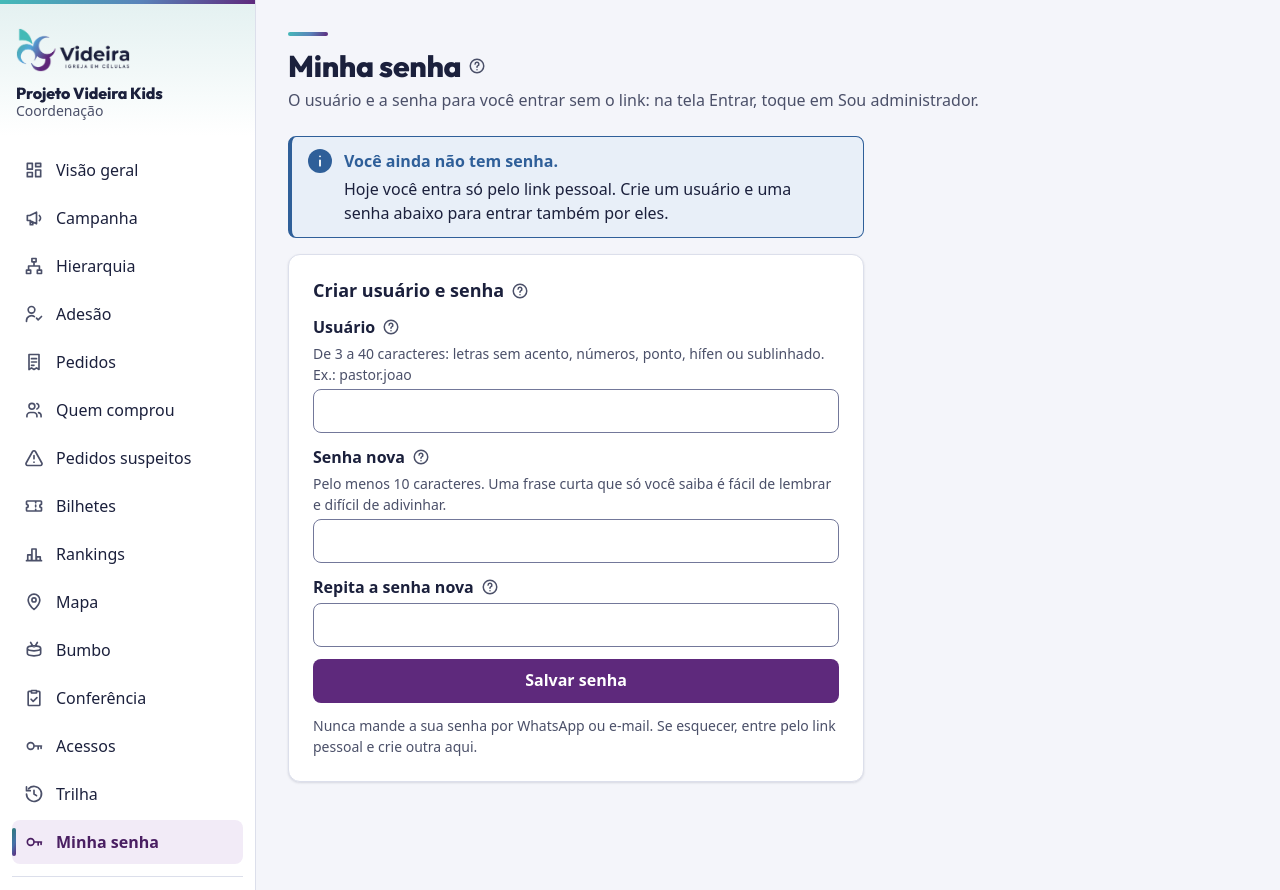
RIFA-073: tela Minha senha › 409 em_uso: o aviso fica no campo Usuário
This screenshot has width=1280, height=890.
Check: the text "Você ainda não tem senha." is shown, box [344,150,558,172]
Type "pastor" into the field labelled "Usuário".
click(576, 411); type("pastor")  # box [313,389,839,433]
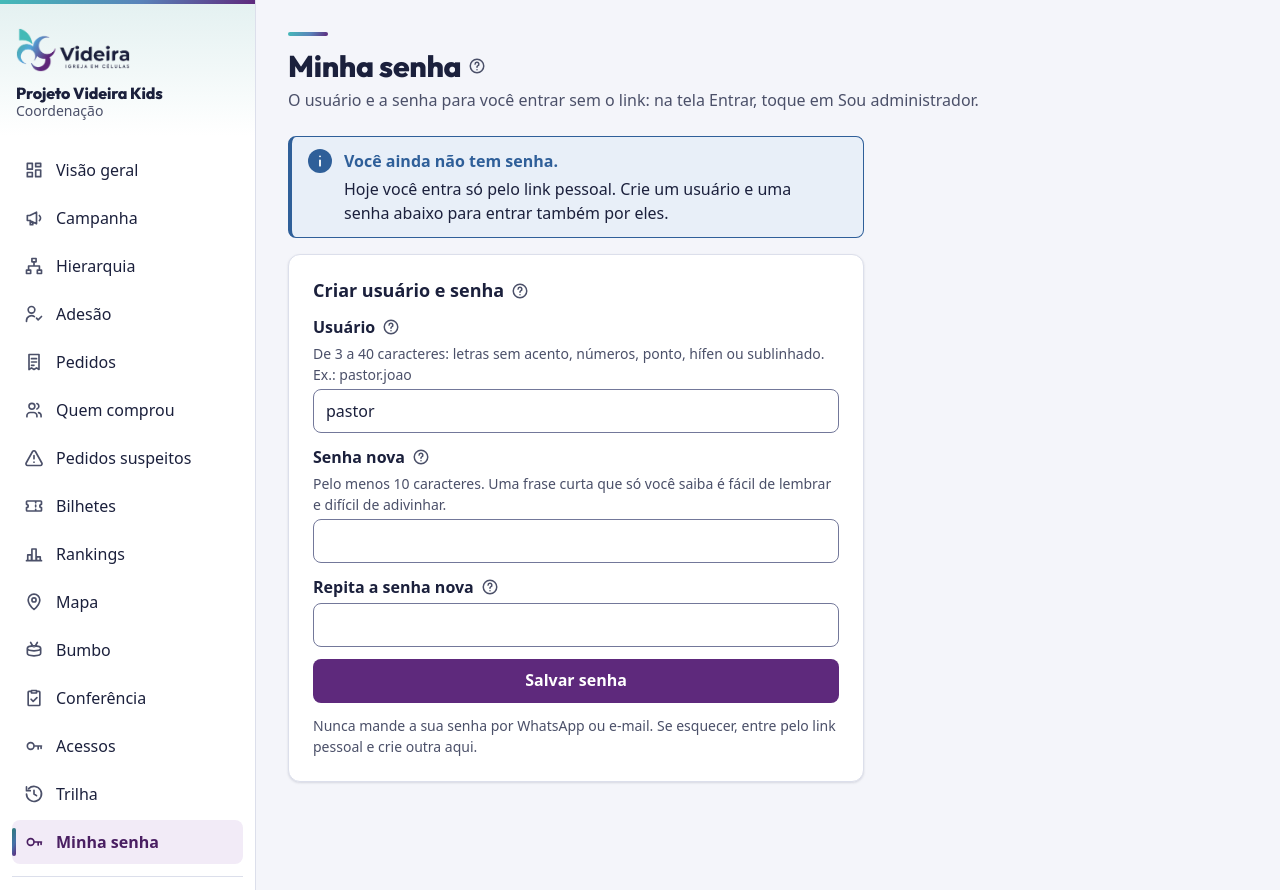
Type "senha ficticia de teste" into the password field labelled "Senha nova".
click(576, 541); type("senha ficticia de teste")  # box [313,519,839,563]
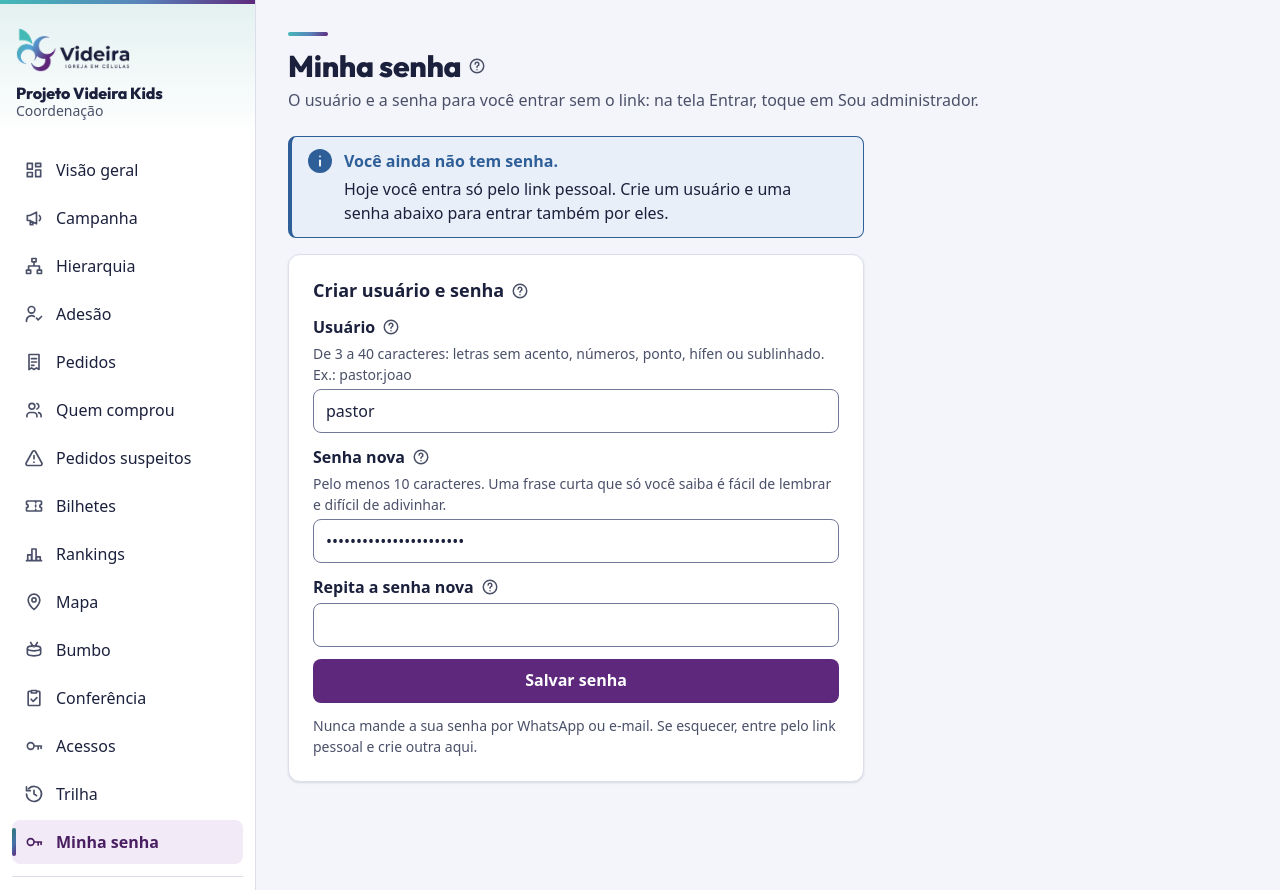
Type "senha ficticia de teste" into the password field labelled "Repita a senha nova".
click(576, 625); type("senha ficticia de teste")  # box [313,603,839,647]
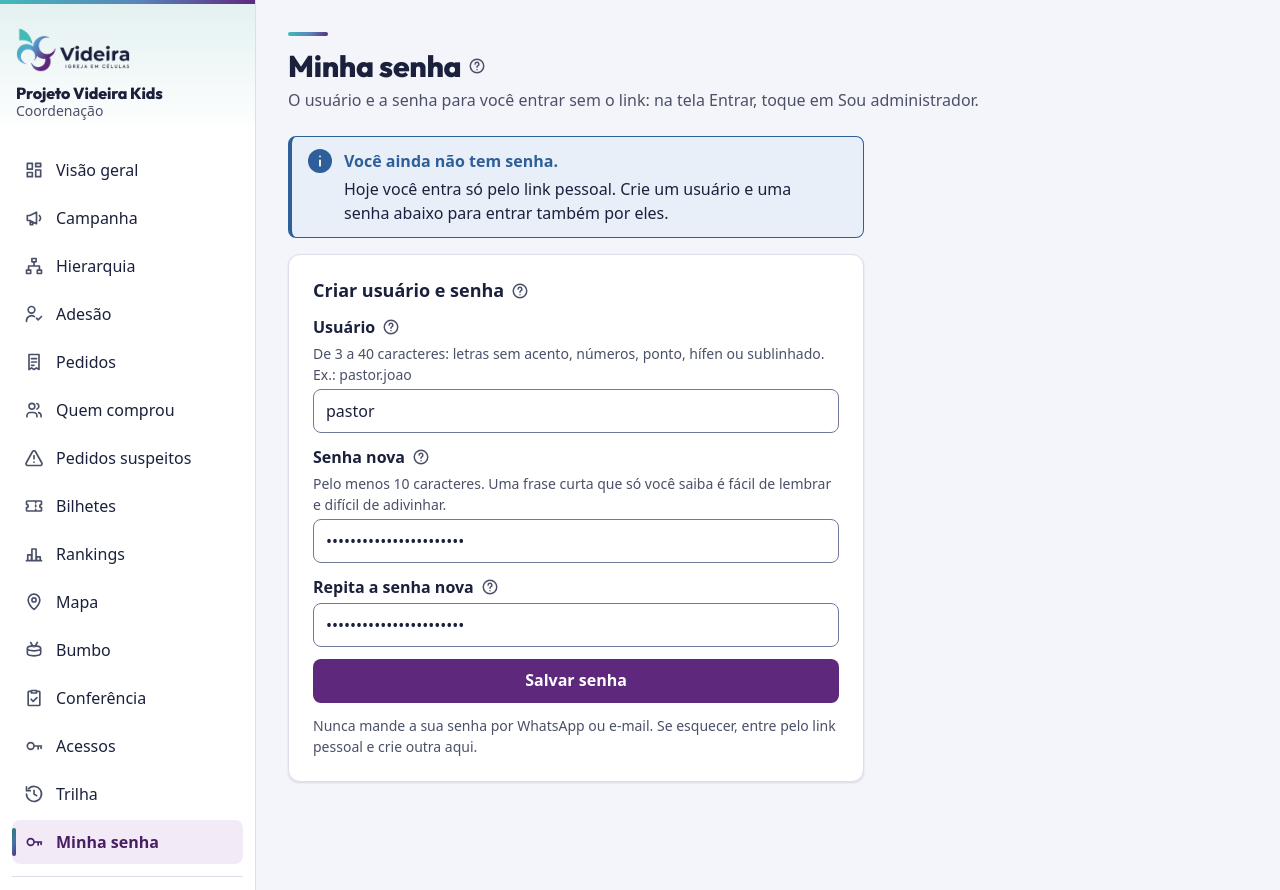
Click the button "Salvar senha".
click(576, 681)  # box [313,659,839,703]
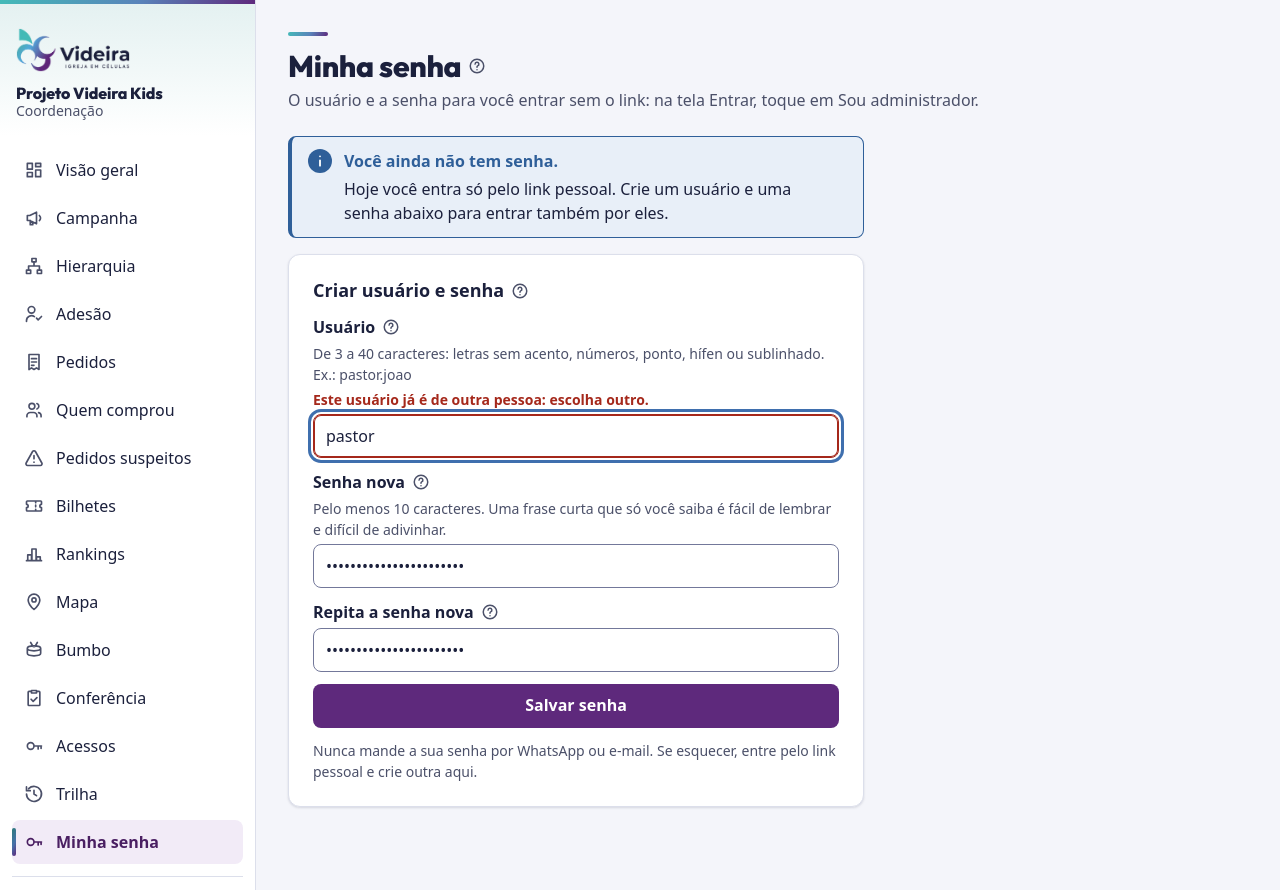
Check: the text "Este usuário já é de outra pessoa: escolha outro." is shown, box [313,390,649,409]
